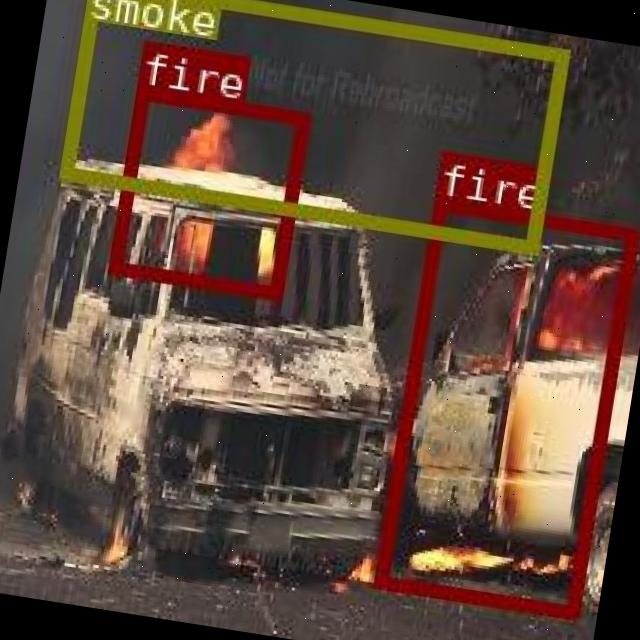fire: (372, 194, 638, 617), (106, 85, 308, 297)
smoke: (57, 0, 567, 252)
